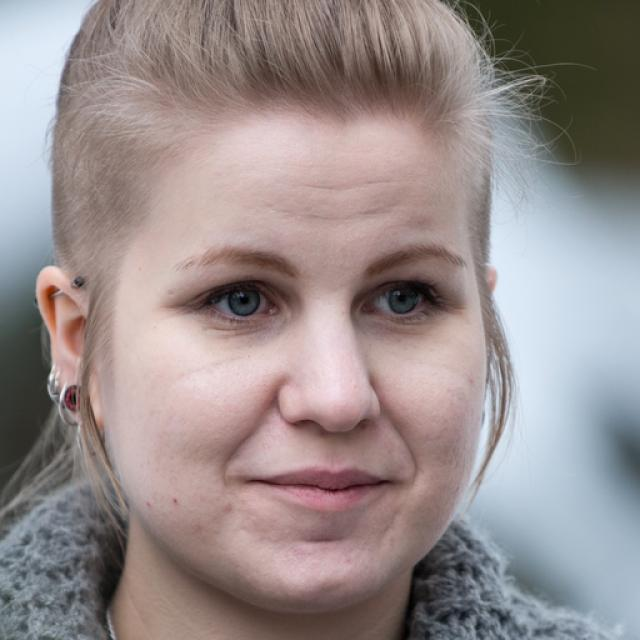0_rostro_limpio: (39, 0, 487, 613)
